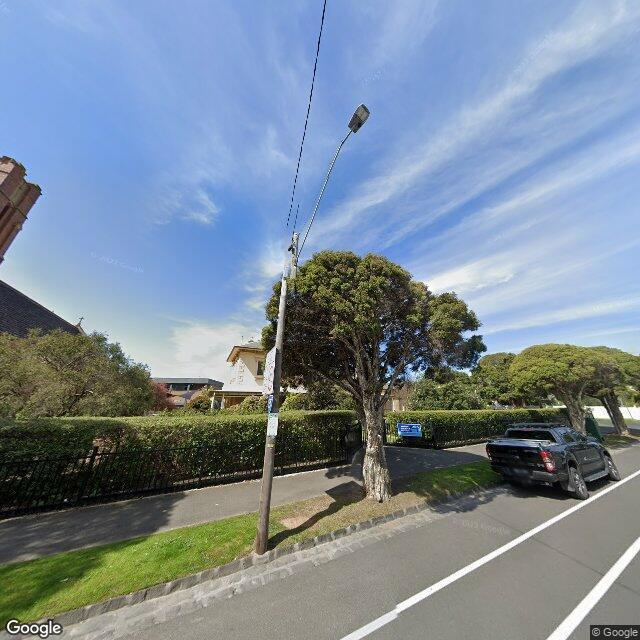streetlight: (296, 103, 370, 266)
timber-pole: (252, 231, 301, 555)
